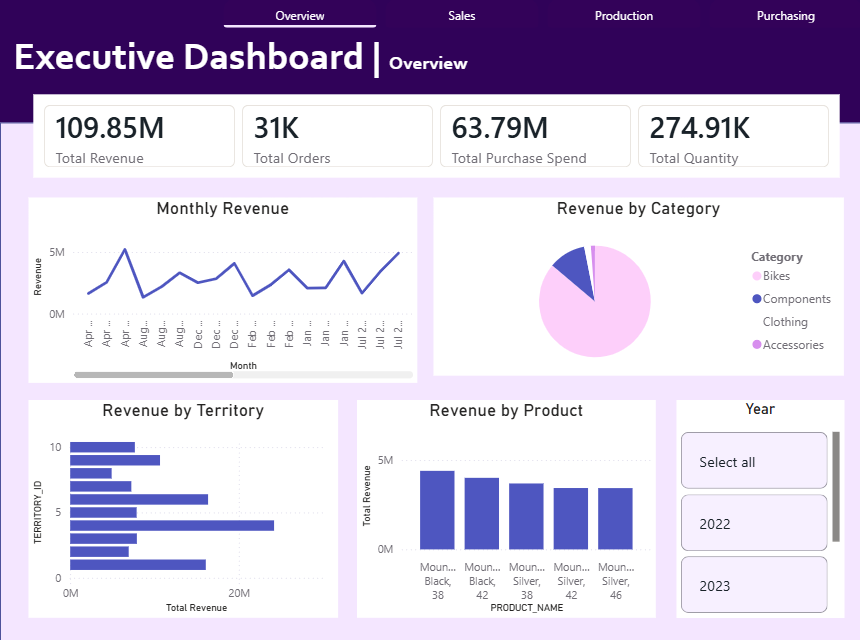

The dashboard page shown, as its layout file describes it:
{"tool":"powerbi","page":{"name":"Overview","canvas":[960,720],"ordinal":0},"visuals":[{"type":"textbox","box":[10,34,528,68],"z":0},{"type":"shape","box":[0,137.5,1280,582.5],"z":1000},{"type":"cardVisual","fields":{"Data":["FACT_SALES.Total Revenue","FACT_SALES.Total Orders","FACT_PURCHASE.Total Purchase Spend","FACT_SALES.Total Quantity"]},"box":[31.7,101.7,906.7,103.3],"z":2000},{"type":"lineChart","title":"Monthly Revenue","fields":{"Category":["FACT_SALES.MONTH_YEAR"],"Y":["FACT_SALES.Monthly Revenue"]},"box":[32,222,432,206],"z":3000},{"type":"pieChart","title":"Revenue by Category","fields":{"Category":["DIM_PRODUCT.CATEGORY_NAME"],"Y":["FACT_SALES.Total Revenue"]},"box":[482,222,456,198],"z":4000},{"type":"clusteredBarChart","title":"Revenue by Territory","fields":{"Category":["DIM_CUSTOMER.TERRITORY_ID"],"Y":["FACT_SALES.Total Revenue"]},"box":[32,446,344,242],"z":5000},{"type":"clusteredColumnChart","title":"Revenue by Product","fields":{"Category":["DIM_PRODUCT.PRODUCT_NAME"],"Y":["FACT_SALES.Total Revenue"]},"box":[396,446,332,242],"z":6000},{"type":"advancedSlicerVisual","title":"Year","fields":{"Values":["FACT_SALES.YEAR"]},"box":[752,446,186,242],"z":7000},{"type":"pageNavigator","box":[248.3,0,711.7,33.3],"z":8000}]}

Visuals, with their boxes in screenshot pixels (x1, y1, x2, y2), scaled from the page's 960x720 canvas onto the 860x640 screenshot:
textbox: crop(9, 30, 482, 91)
shape: crop(0, 122, 859, 639)
cardVisual - FACT_SALES.Total Revenue x FACT_SALES.Total Orders: crop(28, 90, 841, 182)
"Monthly Revenue" lineChart: crop(29, 197, 416, 380)
"Revenue by Category" pieChart: crop(432, 197, 840, 373)
"Revenue by Territory" clusteredBarChart: crop(29, 396, 337, 612)
"Revenue by Product" clusteredColumnChart: crop(355, 396, 652, 612)
"Year" advancedSlicerVisual: crop(674, 396, 840, 612)
pageNavigator: crop(222, 0, 859, 30)
